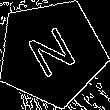N_SE: (21, 21, 82, 85)
